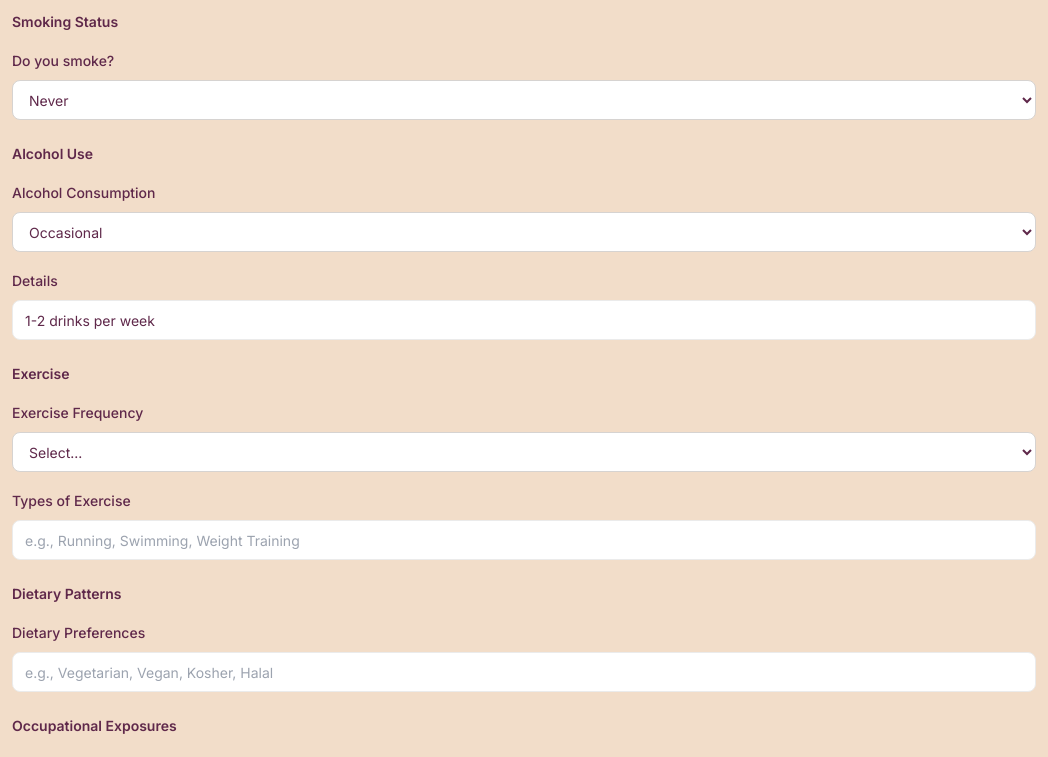
LifestyleForm › Alcohol Use › should hide alcohol details field when alcohol use is "none"
The image size is (1048, 757).
Expected: the field labelled "Details" is shown, [12, 300, 1036, 340]
Select "None" in the dropdown labelled "Alcohol Consumption" at point(524, 232), box [12, 212, 1036, 252]
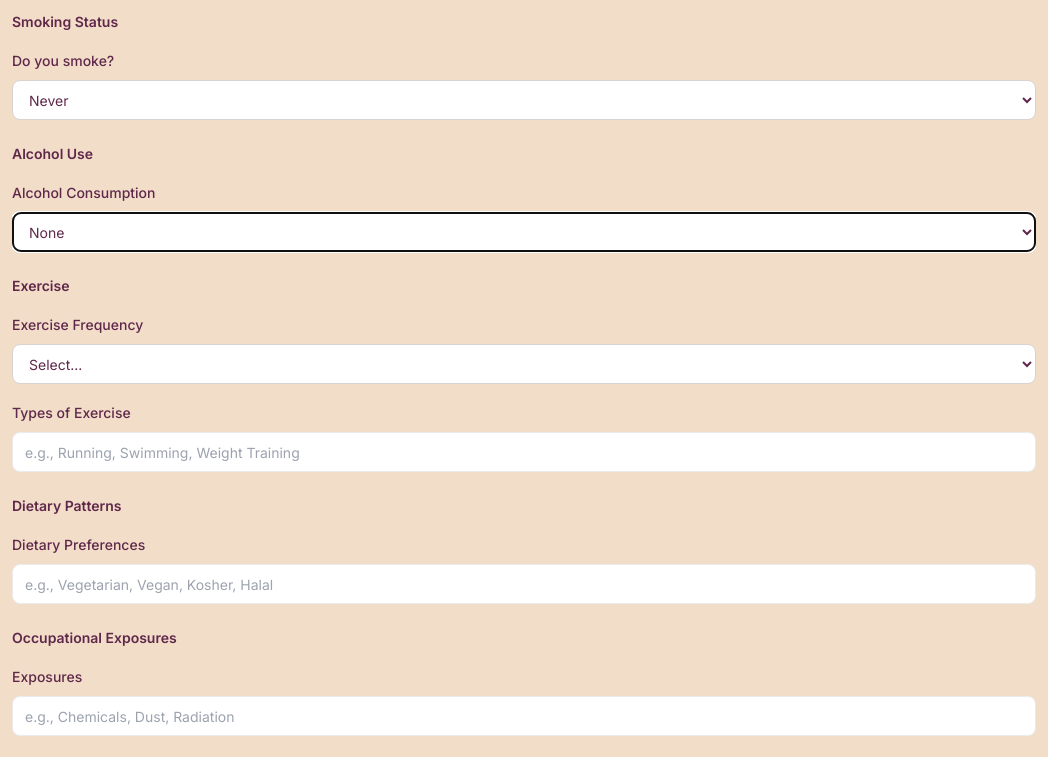
Expected: the label labelled "Details" is gone
